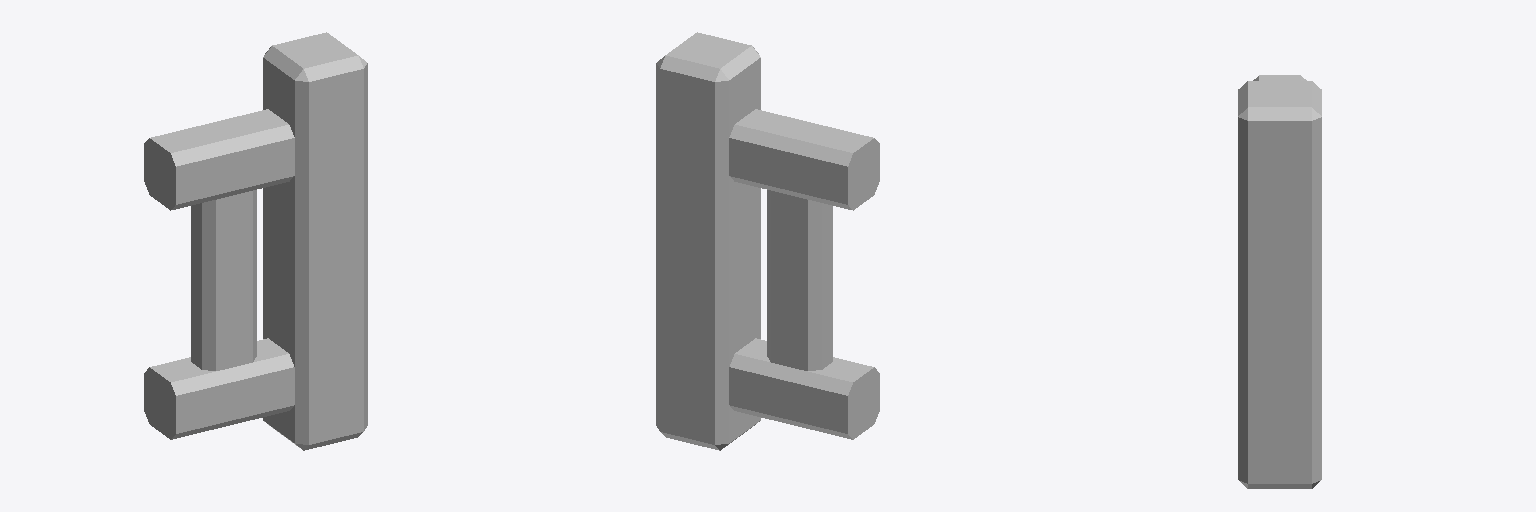
File: fence_straight_open.obj
3 renders of one model, left to right at view 1: azimuth 30°, elevation 25°; view 2: azimuth 150°, elevation 25°; view 3: azimuth 270°, elevation 25°, orthographic.
Parts seen in each view (by area): view 1: fence_straight_open; view 2: fence_straight_open; view 3: fence_straight_open.
Boxes of the visible parts, <box> form: fence_straight_open: <box>144,32,367,450</box>; fence_straight_open: <box>656,32,879,450</box>; fence_straight_open: <box>1238,75,1321,488</box>.
Size of the model in its own units: 1.05 by 2 by 0.4.